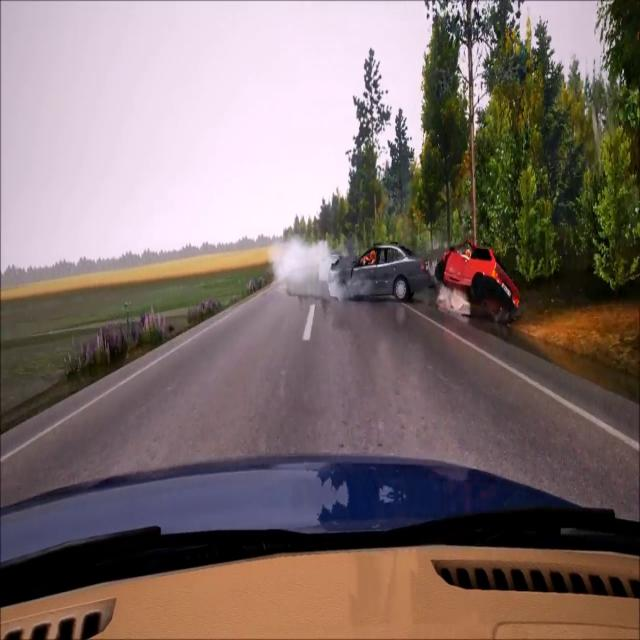accident: (325, 233, 520, 313)
